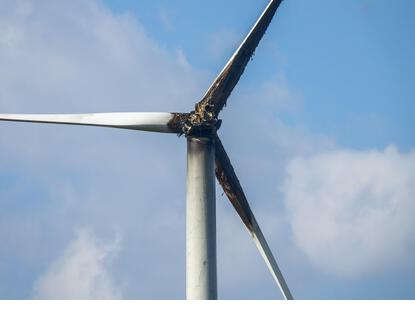faulty: (144, 64, 253, 214)
